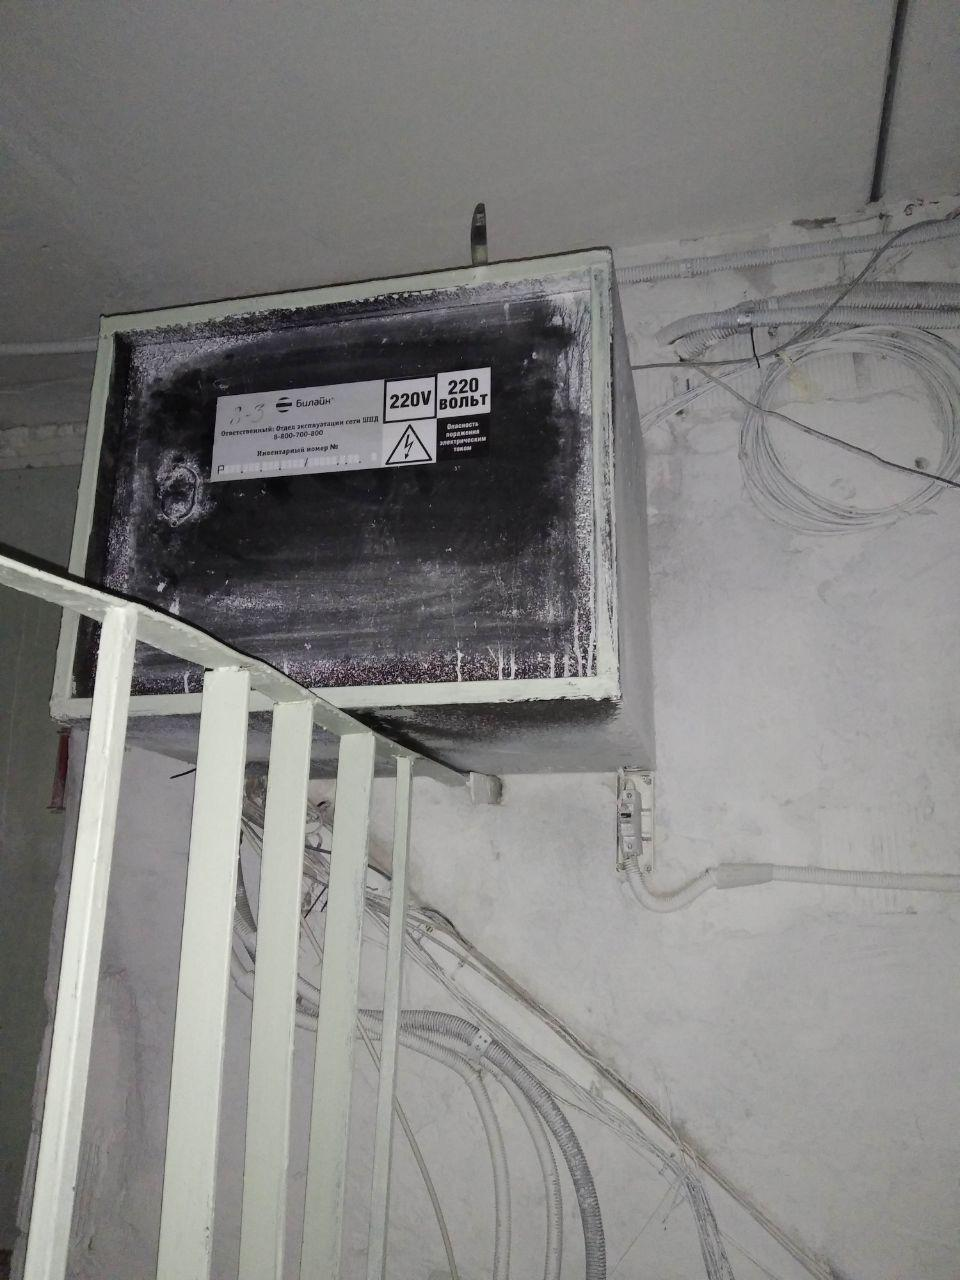shta-9m: (41, 237, 664, 789)
